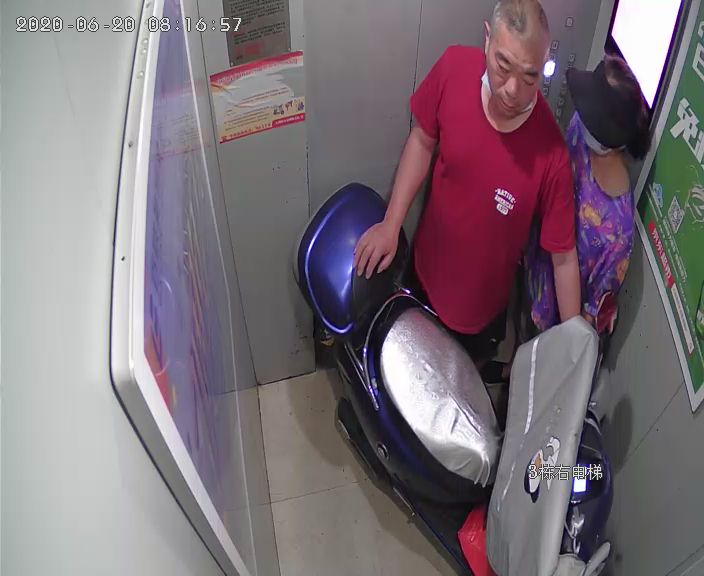Electric-bicycle: (298, 183, 618, 573)
